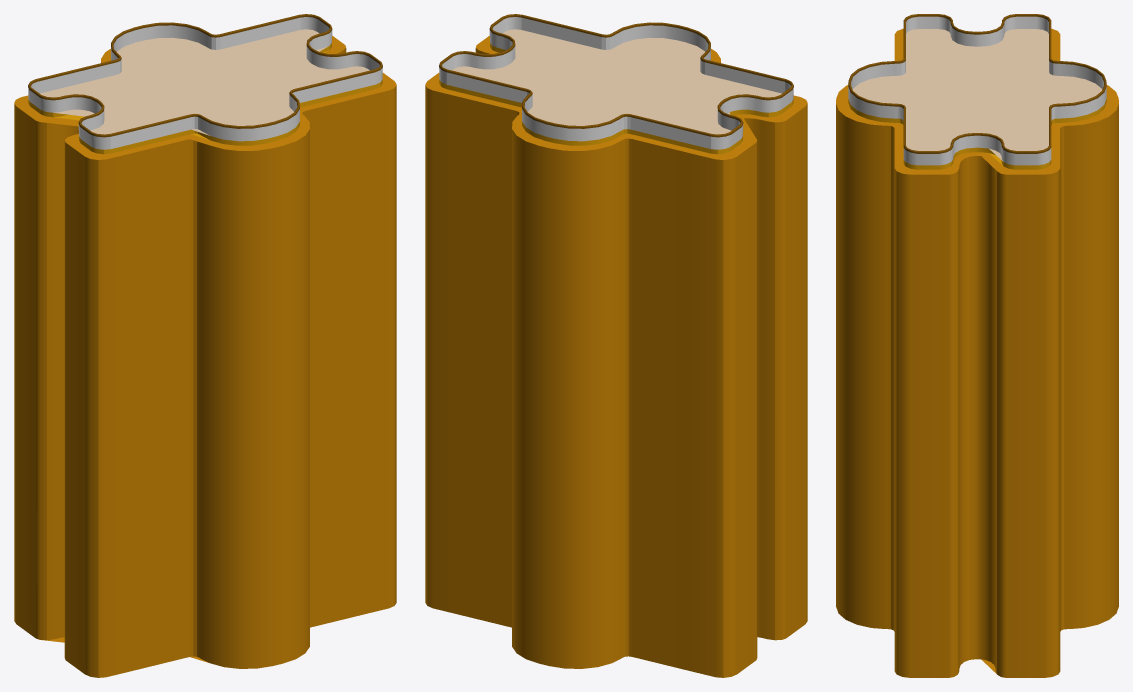
3 views of the same model, side by side, from view 1: azimuth 30°, elevation 25°; view 2: azimuth 150°, elevation 25°; view 3: azimuth 270°, elevation 25° (orthographic). The views are drawn at different scales.
Parts seen in each view (by area): view 1: base21, base20, polySurface72, polySurface1143, polySurface1149, polySurface1152, polySurface1147; view 2: base21, base20, polySurface72, polySurface1143, polySurface1149, polySurface1145, polySurface1151; view 3: base21, base20, polySurface72, polySurface1143, polySurface1149, polySurface1145, polySurface1152, polySurface1151, polySurface1147.
Boxes of the visible parts, x1,y1,x2,y2 form: base21: [14, 36, 396, 677]; base20: [28, 29, 382, 154]; polySurface72: [28, 14, 382, 137]; polySurface1143: [300, 17, 382, 84]; polySurface1149: [28, 82, 110, 149]; polySurface1152: [150, 25, 220, 49]; polySurface1147: [191, 116, 260, 141]; base21: [425, 36, 807, 677]; base20: [439, 29, 793, 154]; polySurface72: [439, 14, 793, 137]; polySurface1143: [439, 17, 521, 84]; polySurface1149: [711, 82, 793, 149]; polySurface1145: [601, 25, 671, 49]; polySurface1151: [561, 116, 630, 141]; base21: [836, 28, 1118, 677]; base20: [848, 29, 1106, 169]; polySurface72: [849, 14, 1105, 153]; polySurface1143: [903, 135, 1051, 165]; polySurface1149: [906, 16, 1048, 46]; polySurface1145: [849, 89, 903, 120]; polySurface1152: [1051, 90, 1105, 120]; polySurface1151: [1049, 60, 1102, 89]; polySurface1147: [852, 60, 905, 89].
Size of the model in its own units: 68.84 by 114 by 56.02.
